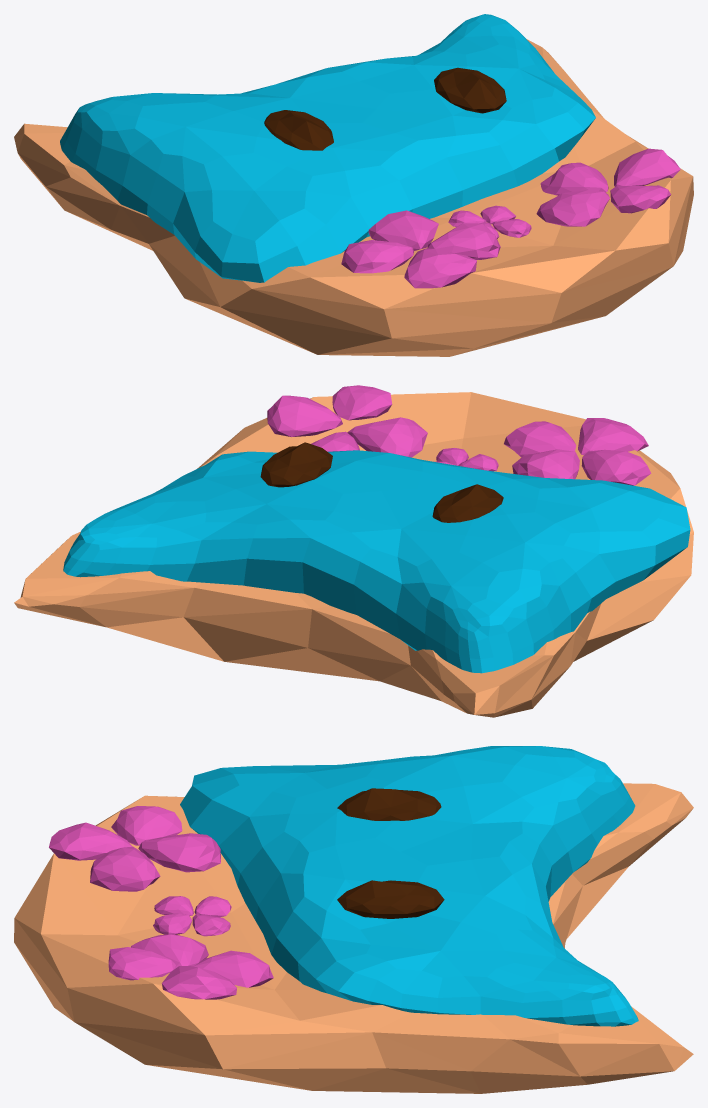
Rendered from cookie.fbx.
The picture shows the model from 3 angles, top to bottom: view 1: azimuth 30°, elevation 25°; view 2: azimuth 150°, elevation 25°; view 3: azimuth 270°, elevation 25°; orthographic projection. The views are drawn at different scales.
Visible parts, largest first — view 1: Icosphere.002, Icosphere, Icosphere.003, Icosphere.005, Icosphere.001, Icosphere.004; view 2: Icosphere.002, Icosphere, Icosphere.003, Icosphere.005, Icosphere.001, Icosphere.004; view 3: Icosphere.002, Icosphere, Icosphere.003, Icosphere.005, Icosphere.001, Icosphere.004.
Boxes of the visible parts, <box> form: Icosphere.002: <box>60,14,595,282</box>; Icosphere: <box>14,39,693,356</box>; Icosphere.003: <box>341,210,500,288</box>; Icosphere.005: <box>536,148,680,226</box>; Icosphere.001: <box>264,67,506,150</box>; Icosphere.004: <box>448,205,531,238</box>; Icosphere.002: <box>63,450,690,673</box>; Icosphere: <box>14,392,693,717</box>; Icosphere.003: <box>504,418,651,485</box>; Icosphere.005: <box>267,385,427,457</box>; Icosphere.001: <box>260,442,503,522</box>; Icosphere.004: <box>434,448,498,471</box>; Icosphere.002: <box>180,746,638,1026</box>; Icosphere: <box>14,783,693,1093</box>; Icosphere.003: <box>49,806,220,891</box>; Icosphere.005: <box>108,934,273,999</box>; Icosphere.001: <box>337,788,444,918</box>; Icosphere.004: <box>153,896,231,936</box>.
Size of the model in its own units: 191 by 64.63 by 212.
